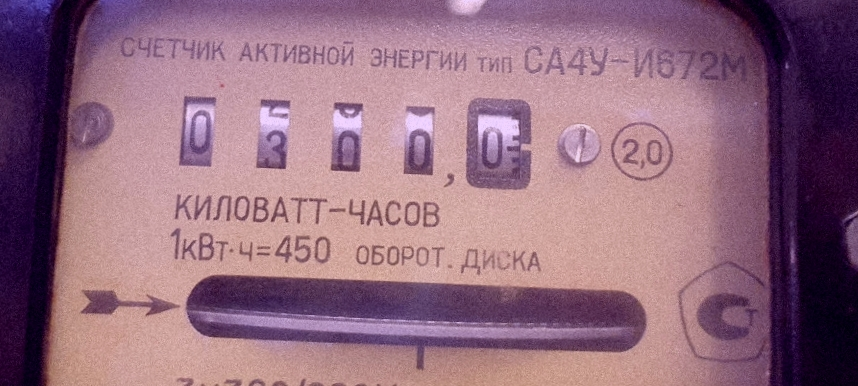0: (185, 104, 213, 157), (476, 123, 506, 172), (331, 125, 360, 174), (402, 126, 432, 173)
3: (259, 125, 288, 170)
screen: (157, 78, 541, 199)
